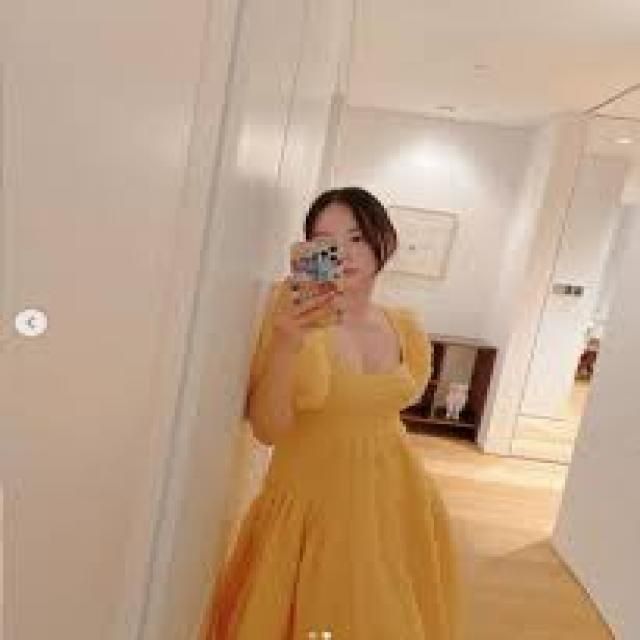Phone: (285, 237, 344, 325)
